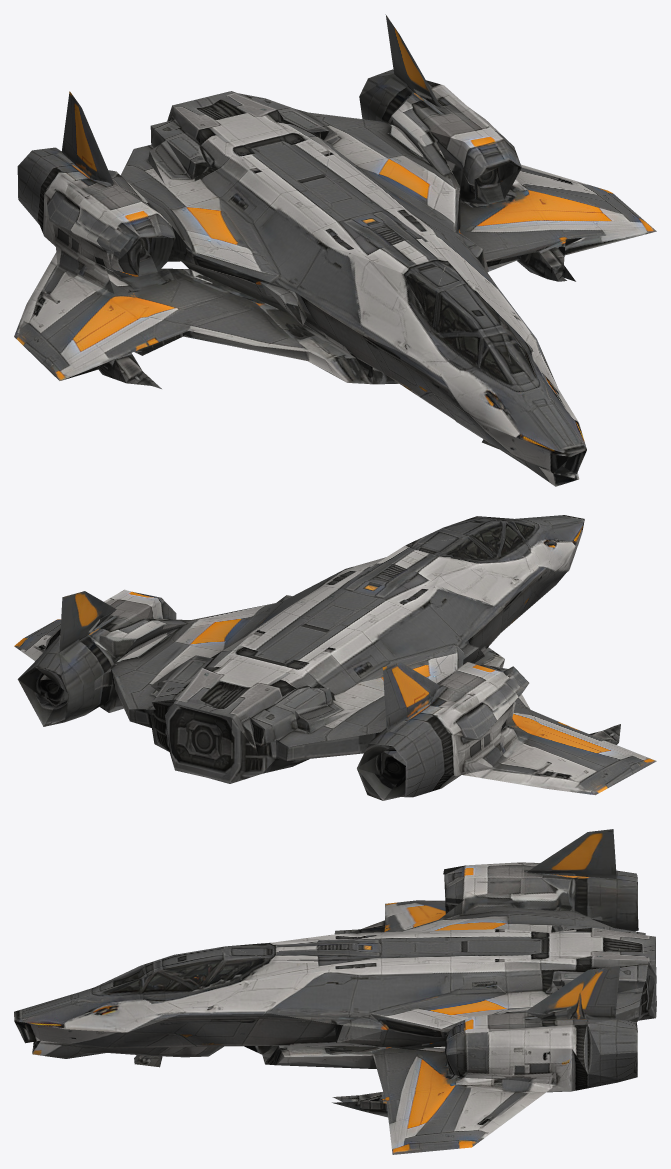
Rendered from fighter-low.glb.
3 renders of one model, top to bottom at view 1: azimuth 30°, elevation 25°; view 2: azimuth 150°, elevation 25°; view 3: azimuth 270°, elevation 25°, orthographic. The views are drawn at different scales.
Visible parts, largest first — view 1: Low; view 2: Low; view 3: Low.
Part boxes in pixels (x1=…): Low: x1=14, y1=14, x2=656, y2=486; Low: x1=14, y1=515, x2=656, y2=800; Low: x1=14, y1=829, x2=656, y2=1154.
Bounding box in the file's own units: 1.66 × 0.5226 × 1.79.
Materials: 1 (1 with a texture image).
